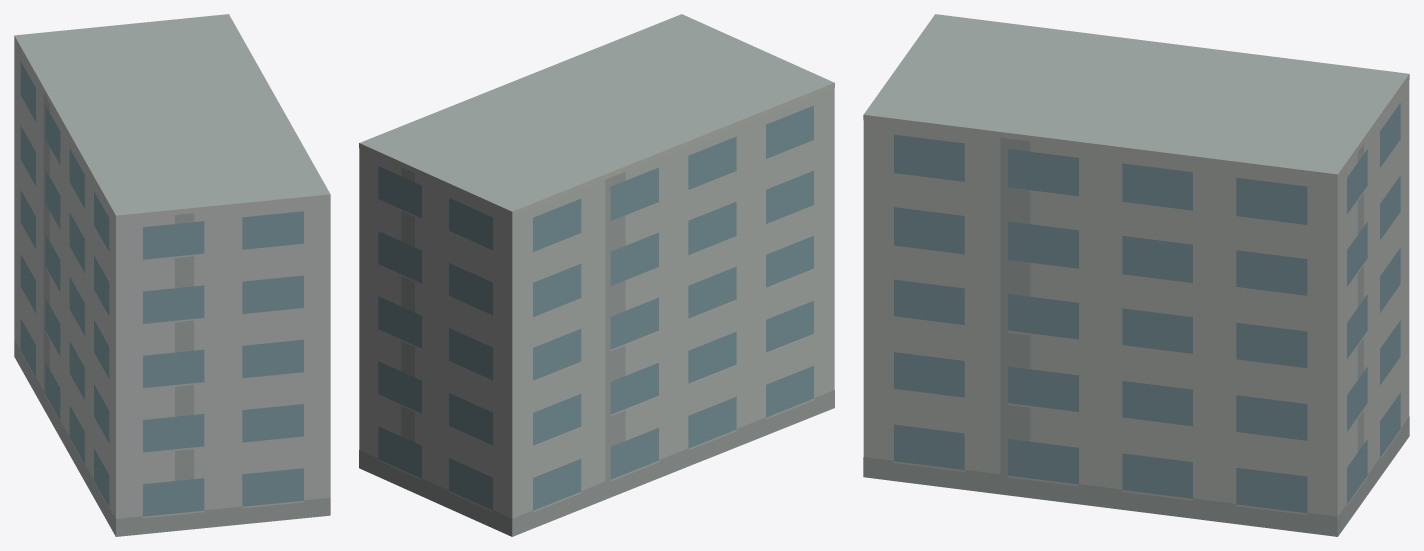
File: survey-upis-32871011.glb
3 views of the same model, side by side, from view 1: azimuth 30°, elevation 25°; view 2: azimuth 150°, elevation 25°; view 3: azimuth 270°, elevation 25° (orthographic). The views are drawn at different scales.
Parts seen in each view (by area): view 1: survey-upis-32871011.tmp; view 2: survey-upis-32871011.tmp; view 3: survey-upis-32871011.tmp.
Part boxes in pixels (x1,y1,x2,y2): survey-upis-32871011.tmp: [14, 14, 330, 536]; survey-upis-32871011.tmp: [359, 14, 834, 536]; survey-upis-32871011.tmp: [863, 14, 1409, 536].
Size of the model in its own units: 14.48 by 15.25 by 20.83.
